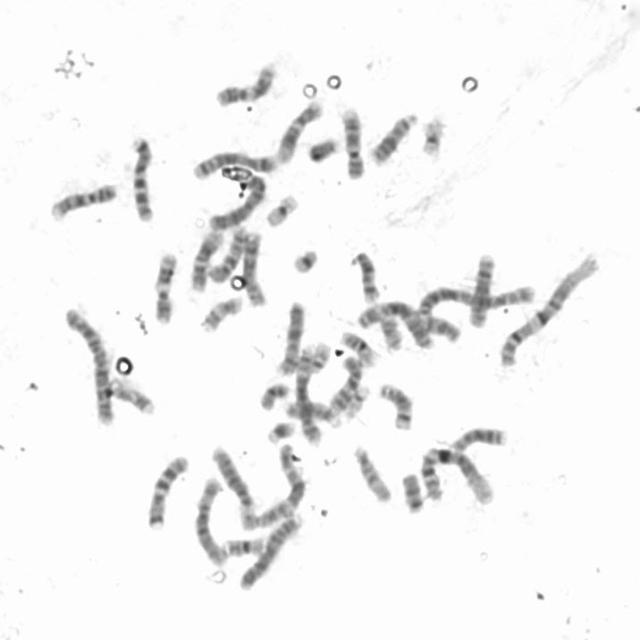A1: (494, 248, 602, 369), (416, 442, 497, 506)
A2: (60, 302, 117, 428), (413, 277, 541, 317)
A3: (238, 438, 306, 532), (353, 295, 437, 351)
B4: (235, 508, 306, 592), (205, 160, 269, 231)
B5: (292, 340, 324, 447), (188, 147, 279, 180)
C10: (205, 220, 251, 285), (324, 352, 366, 416)
C11: (211, 57, 280, 109), (148, 248, 180, 325)
C12: (273, 95, 325, 165), (186, 224, 226, 293)
C6: (208, 440, 258, 531), (190, 473, 232, 567)
C7: (143, 449, 190, 531), (126, 130, 156, 223)
C8: (464, 247, 499, 329), (238, 227, 268, 308)
C9: (46, 177, 120, 223), (337, 101, 367, 180)
D13: (367, 106, 420, 166), (448, 422, 509, 454)
D14: (374, 377, 416, 432), (345, 246, 383, 304)
D15: (350, 440, 394, 504), (281, 395, 345, 429)
E16: (336, 326, 379, 368), (220, 532, 267, 558)
E17: (105, 373, 158, 417), (196, 290, 245, 334)
E18: (417, 309, 463, 345), (397, 467, 426, 514)
F19: (262, 188, 301, 228), (416, 111, 448, 159)
F20: (375, 310, 405, 352), (255, 378, 291, 412)
G21: (288, 243, 322, 276), (262, 415, 298, 445)
G22: (340, 380, 372, 421), (304, 336, 332, 374)
X: (272, 296, 308, 377)
Y: (304, 132, 341, 165)
